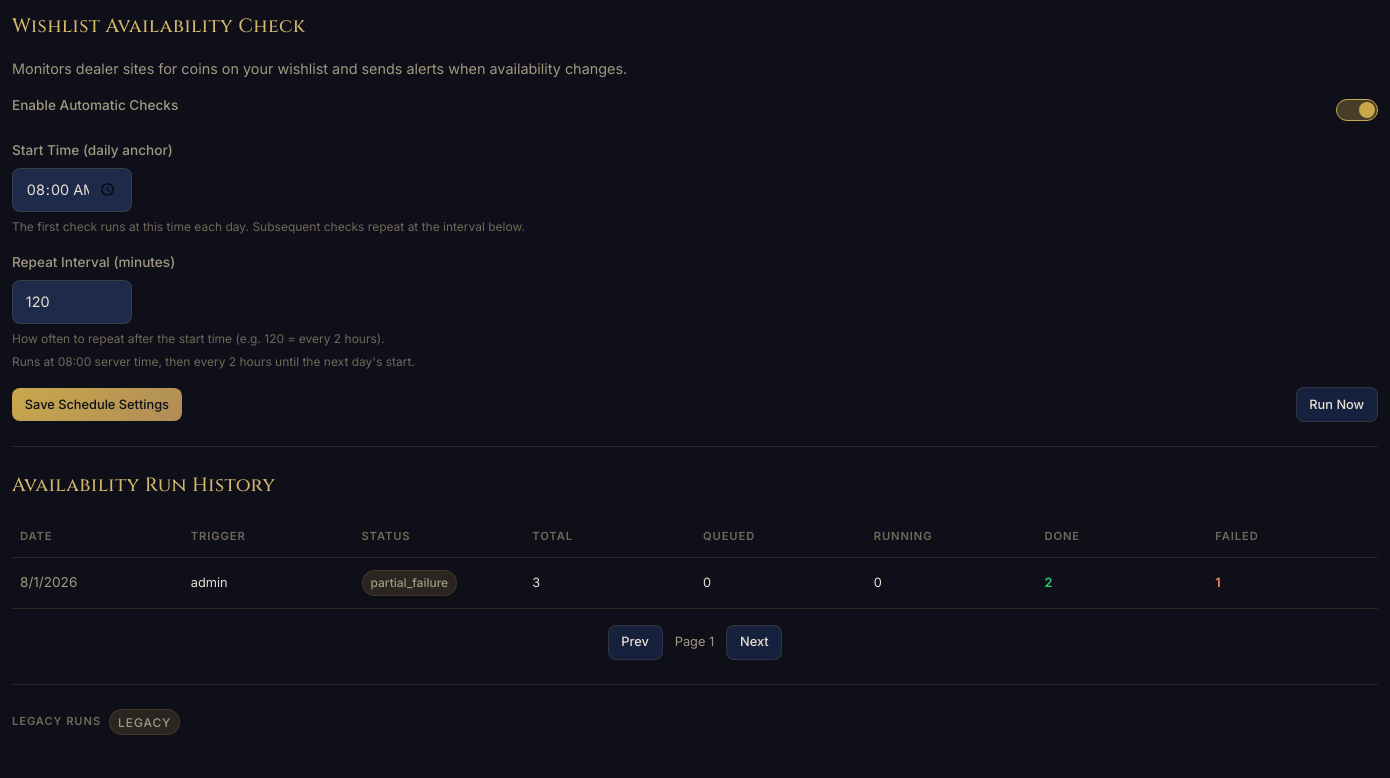
Test case: AdminAvailabilitySchedule › expands a parent cycle and fetches its children from /admin/availability-cycles/{id}
Click the row "8/1/2026 admin partial_failure 3 0 0 2 1". click: (695, 583)
box: [12,557,1378,608]
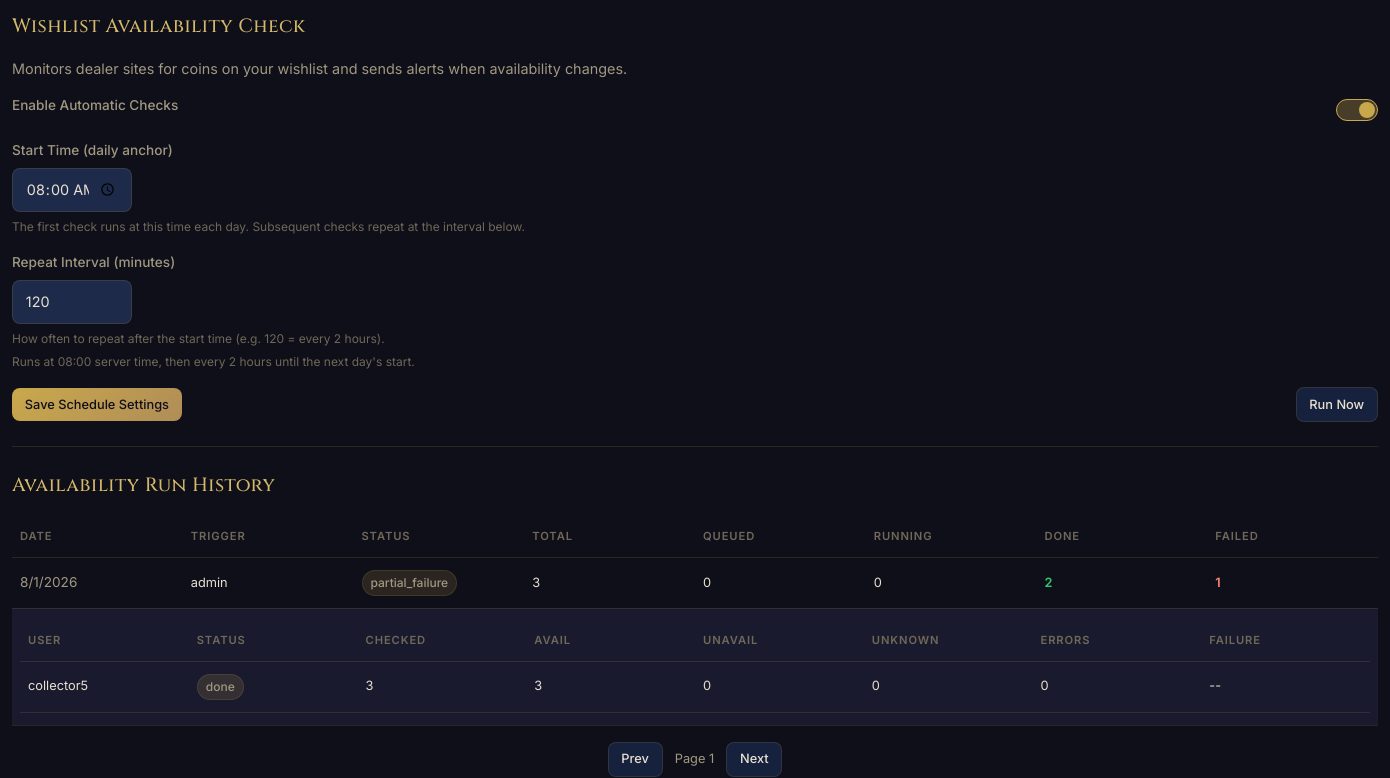
Expected: the text "collector5" is shown, [20,661,189,712]
